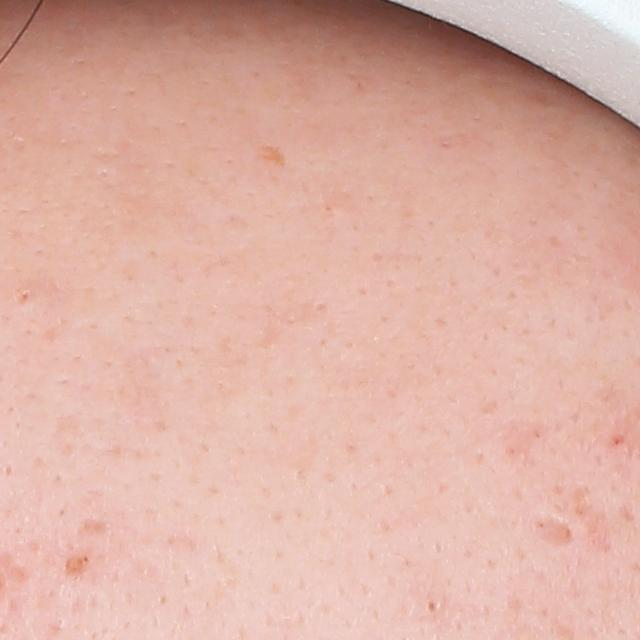atrophic_scar: (568, 482, 614, 557), (73, 512, 121, 546), (536, 513, 579, 546)
comedo: (10, 285, 39, 308), (421, 597, 442, 617)
melasma: (260, 141, 291, 170)
